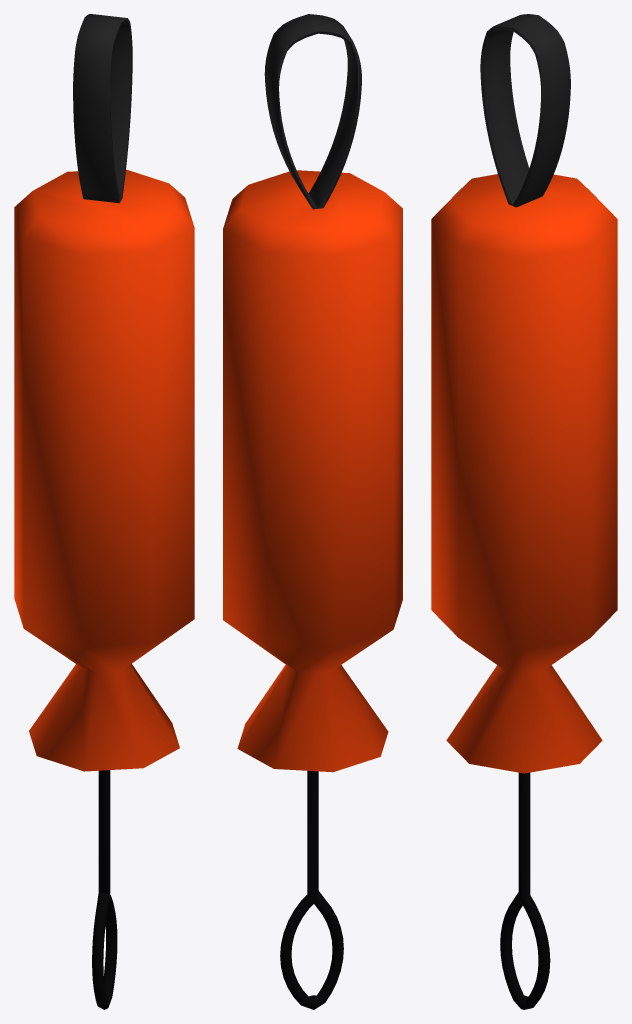
Rendered from life saver.fbx.
3 views of the same model, side by side, from view 1: azimuth 30°, elevation 25°; view 2: azimuth 150°, elevation 25°; view 3: azimuth 270°, elevation 25° (orthographic).
Visible parts, largest first — view 1: Group1, rzutka1; view 2: Group1, rzutka1; view 3: Group1, rzutka1.
Part boxes in pixels (x1,y1,x2,y2): Group1: (14, 169, 194, 771); rzutka1: (73, 14, 132, 1009); Group1: (223, 170, 402, 772); rzutka1: (264, 14, 361, 1009); Group1: (431, 174, 617, 773); rzutka1: (480, 14, 570, 1009).
Bounding box in the file's own units: 152 × 892 × 152.
